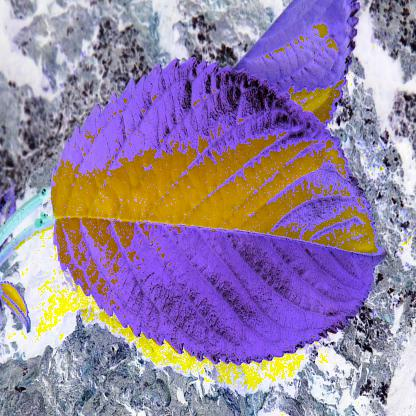apple leaf: (47, 49, 387, 374)
